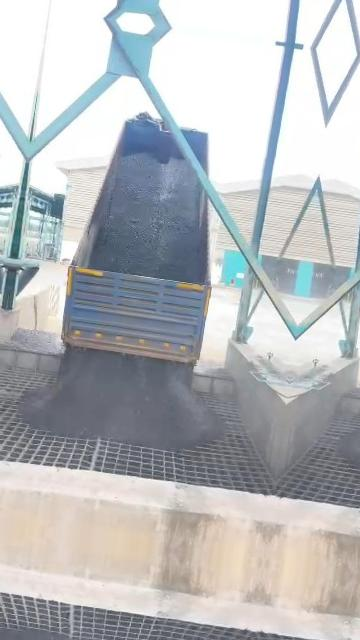gravel: (19, 350, 222, 451), (91, 152, 206, 282), (1, 329, 63, 354)
